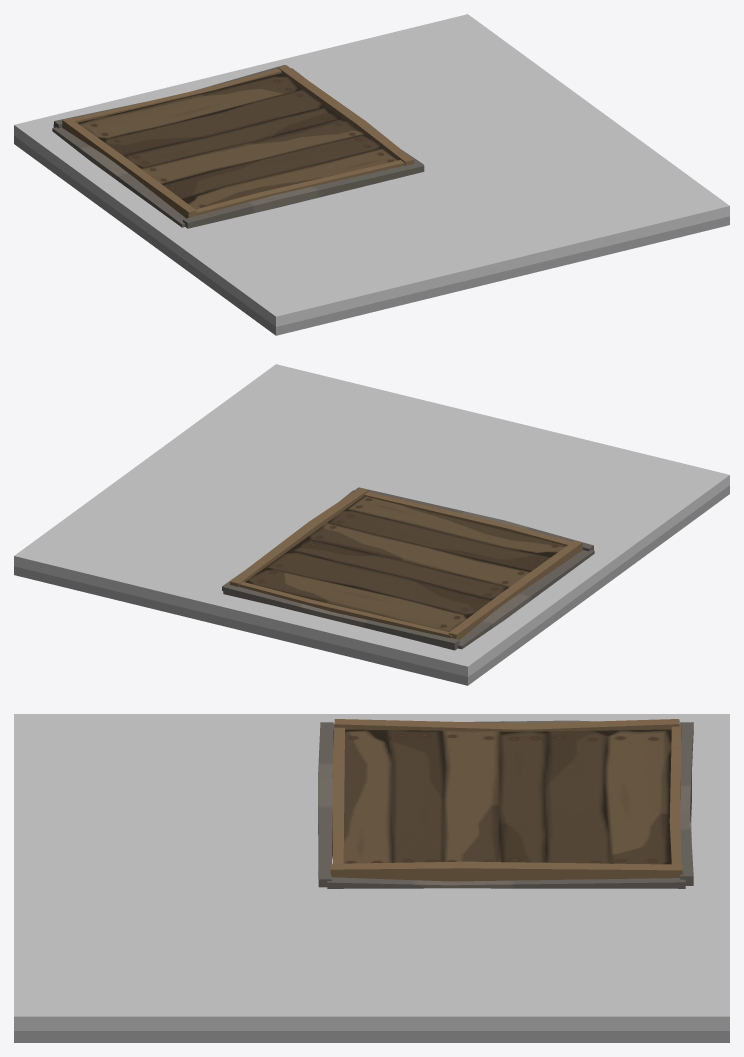
Rendered from SM_Bld_Floor_Hatch_01.fbx.
3 renders of one model, top to bottom at view 1: azimuth 30°, elevation 25°; view 2: azimuth 150°, elevation 25°; view 3: azimuth 270°, elevation 25°, orthographic. The views are drawn at different scales.
Visible parts, largest first — view 1: SM_Bld_Floor_Hatch_01, SM_Bld_Floor_Hatch_Lid_01; view 2: SM_Bld_Floor_Hatch_01, SM_Bld_Floor_Hatch_Lid_01; view 3: SM_Bld_Floor_Hatch_01, SM_Bld_Floor_Hatch_Lid_01.
Part boxes in pixels (<box>): SM_Bld_Floor_Hatch_01: <box>14,14,729,335</box>; SM_Bld_Floor_Hatch_Lid_01: <box>62,65,413,218</box>; SM_Bld_Floor_Hatch_01: <box>14,364,729,685</box>; SM_Bld_Floor_Hatch_Lid_01: <box>230,487,582,639</box>; SM_Bld_Floor_Hatch_01: <box>14,714,729,1042</box>; SM_Bld_Floor_Hatch_Lid_01: <box>330,719,682,881</box>.
Size of the model in its own units: 250 by 20.36 by 250.
